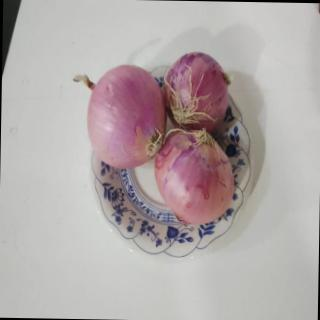Bawang Merah: (72, 62, 168, 170), (151, 129, 239, 229), (163, 48, 234, 131)
